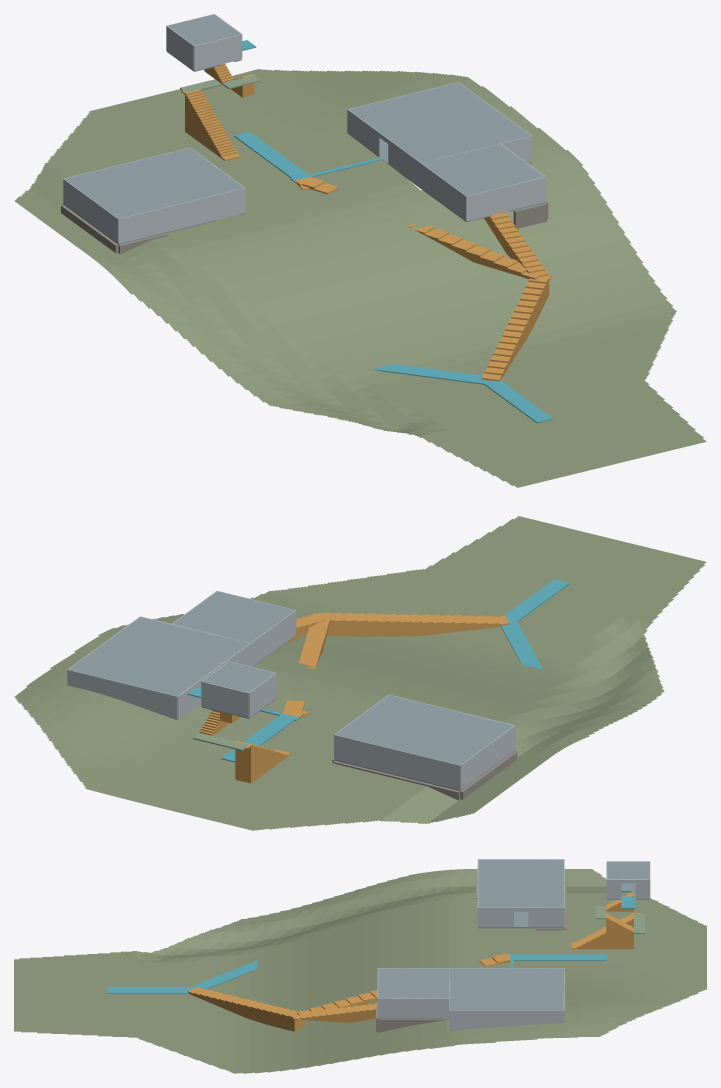
Rendered from supported-stairs.glb.
3 renders of one model, top to bottom at view 1: azimuth 30°, elevation 25°; view 2: azimuth 150°, elevation 25°; view 3: azimuth 270°, elevation 25°, orthographic. The views are drawn at different scales.
Parts seen in each view (by area): view 1: Saved editor occupied-room terrain WLD-04, Ceiling cap ruin, Ceiling cap hut, Ceiling cap store, Wall hut S, Wall store S, Wall hut W, Ceiling cap cab, Wall cab S, Wall store W, L02 support 0, Wall ruin W (+2 smaller); view 2: Saved editor occupied-room terrain WLD-04, Ceiling cap ruin, Ceiling cap hut, Ceiling cap store, Wall hut N, Wall ruin N, Wall hut W, Ceiling cap cab, Wall cab N, Wall store W, L02 support 0, Wall cab W (+3 smaller); view 3: Saved editor occupied-room terrain WLD-04, Ceiling cap ruin, Ceiling cap hut, Ceiling cap store, Wall ruin E, Wall store E, Ceiling cap cab, Wall hut E, Wall hut E.001, L02 support 0.
Part boxes in pixels (<box>): Saved editor occupied-room terrain WLD-04: <box>14,69,706,487</box>; Ceiling cap ruin: <box>348,82,530,162</box>; Ceiling cap hut: <box>64,148,243,218</box>; Ceiling cap store: <box>421,144,544,195</box>; Wall hut S: <box>118,188,245,243</box>; Wall store S: <box>466,177,545,220</box>; Wall hut W: <box>63,179,118,243</box>; Ceiling cap cab: <box>168,14,241,45</box>; Wall cab S: <box>194,34,241,70</box>; Wall store W: <box>420,163,466,220</box>; L02 support 0: <box>372,364,489,384</box>; Wall ruin W: <box>347,109,380,157</box>; Saved editor occupied-room terrain WLD-04: <box>14,516,706,830</box>; Ceiling cap ruin: <box>68,617,249,696</box>; Ceiling cap hut: <box>335,695,513,765</box>; Ceiling cap store: <box>173,591,294,643</box>; Wall hut N: <box>334,735,460,790</box>; Wall ruin N: <box>67,669,177,720</box>; Wall hut W: <box>460,725,515,789</box>; Ceiling cap cab: <box>202,661,275,692</box>; Wall cab N: <box>201,681,248,717</box>; Wall store W: <box>250,610,296,666</box>; L02 support 0: <box>500,620,543,669</box>; Wall cab W: <box>249,673,276,717</box>; Saved editor occupied-room terrain WLD-04: <box>14,869,706,1073</box>; Ceiling cap ruin: <box>449,968,563,1010</box>; Ceiling cap hut: <box>478,859,563,907</box>; Ceiling cap store: <box>378,968,449,998</box>; Wall ruin E: <box>449,1010,563,1029</box>; Wall store E: <box>378,998,449,1017</box>; Ceiling cap cab: <box>607,861,649,879</box>; Wall hut E: <box>528,907,563,927</box>; Wall hut E.001: <box>478,907,513,927</box>; L02 support 0: <box>191,960,257,989</box>.
Size of the model in its own units: 59 by 19.15 by 97.
